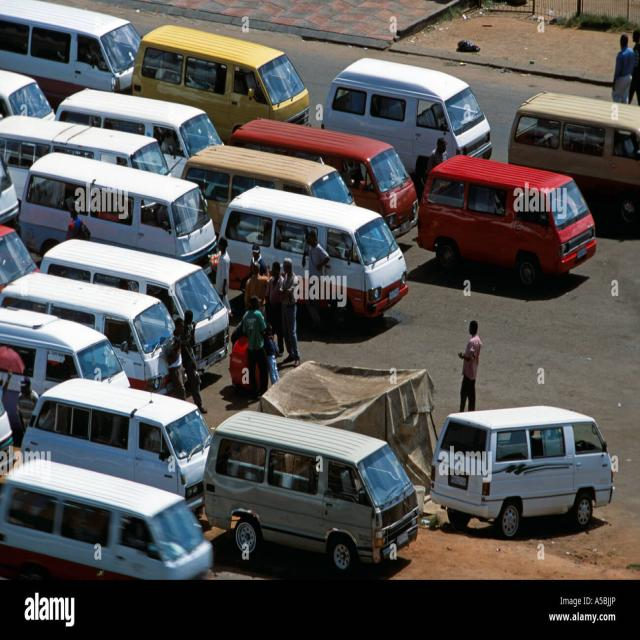MiniBus taxi: (206, 408, 426, 569), (346, 213, 416, 322)
